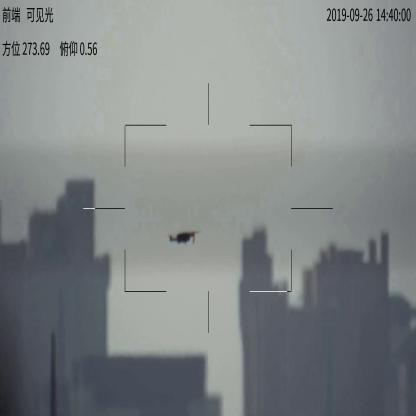uav: (165, 228, 201, 246)
